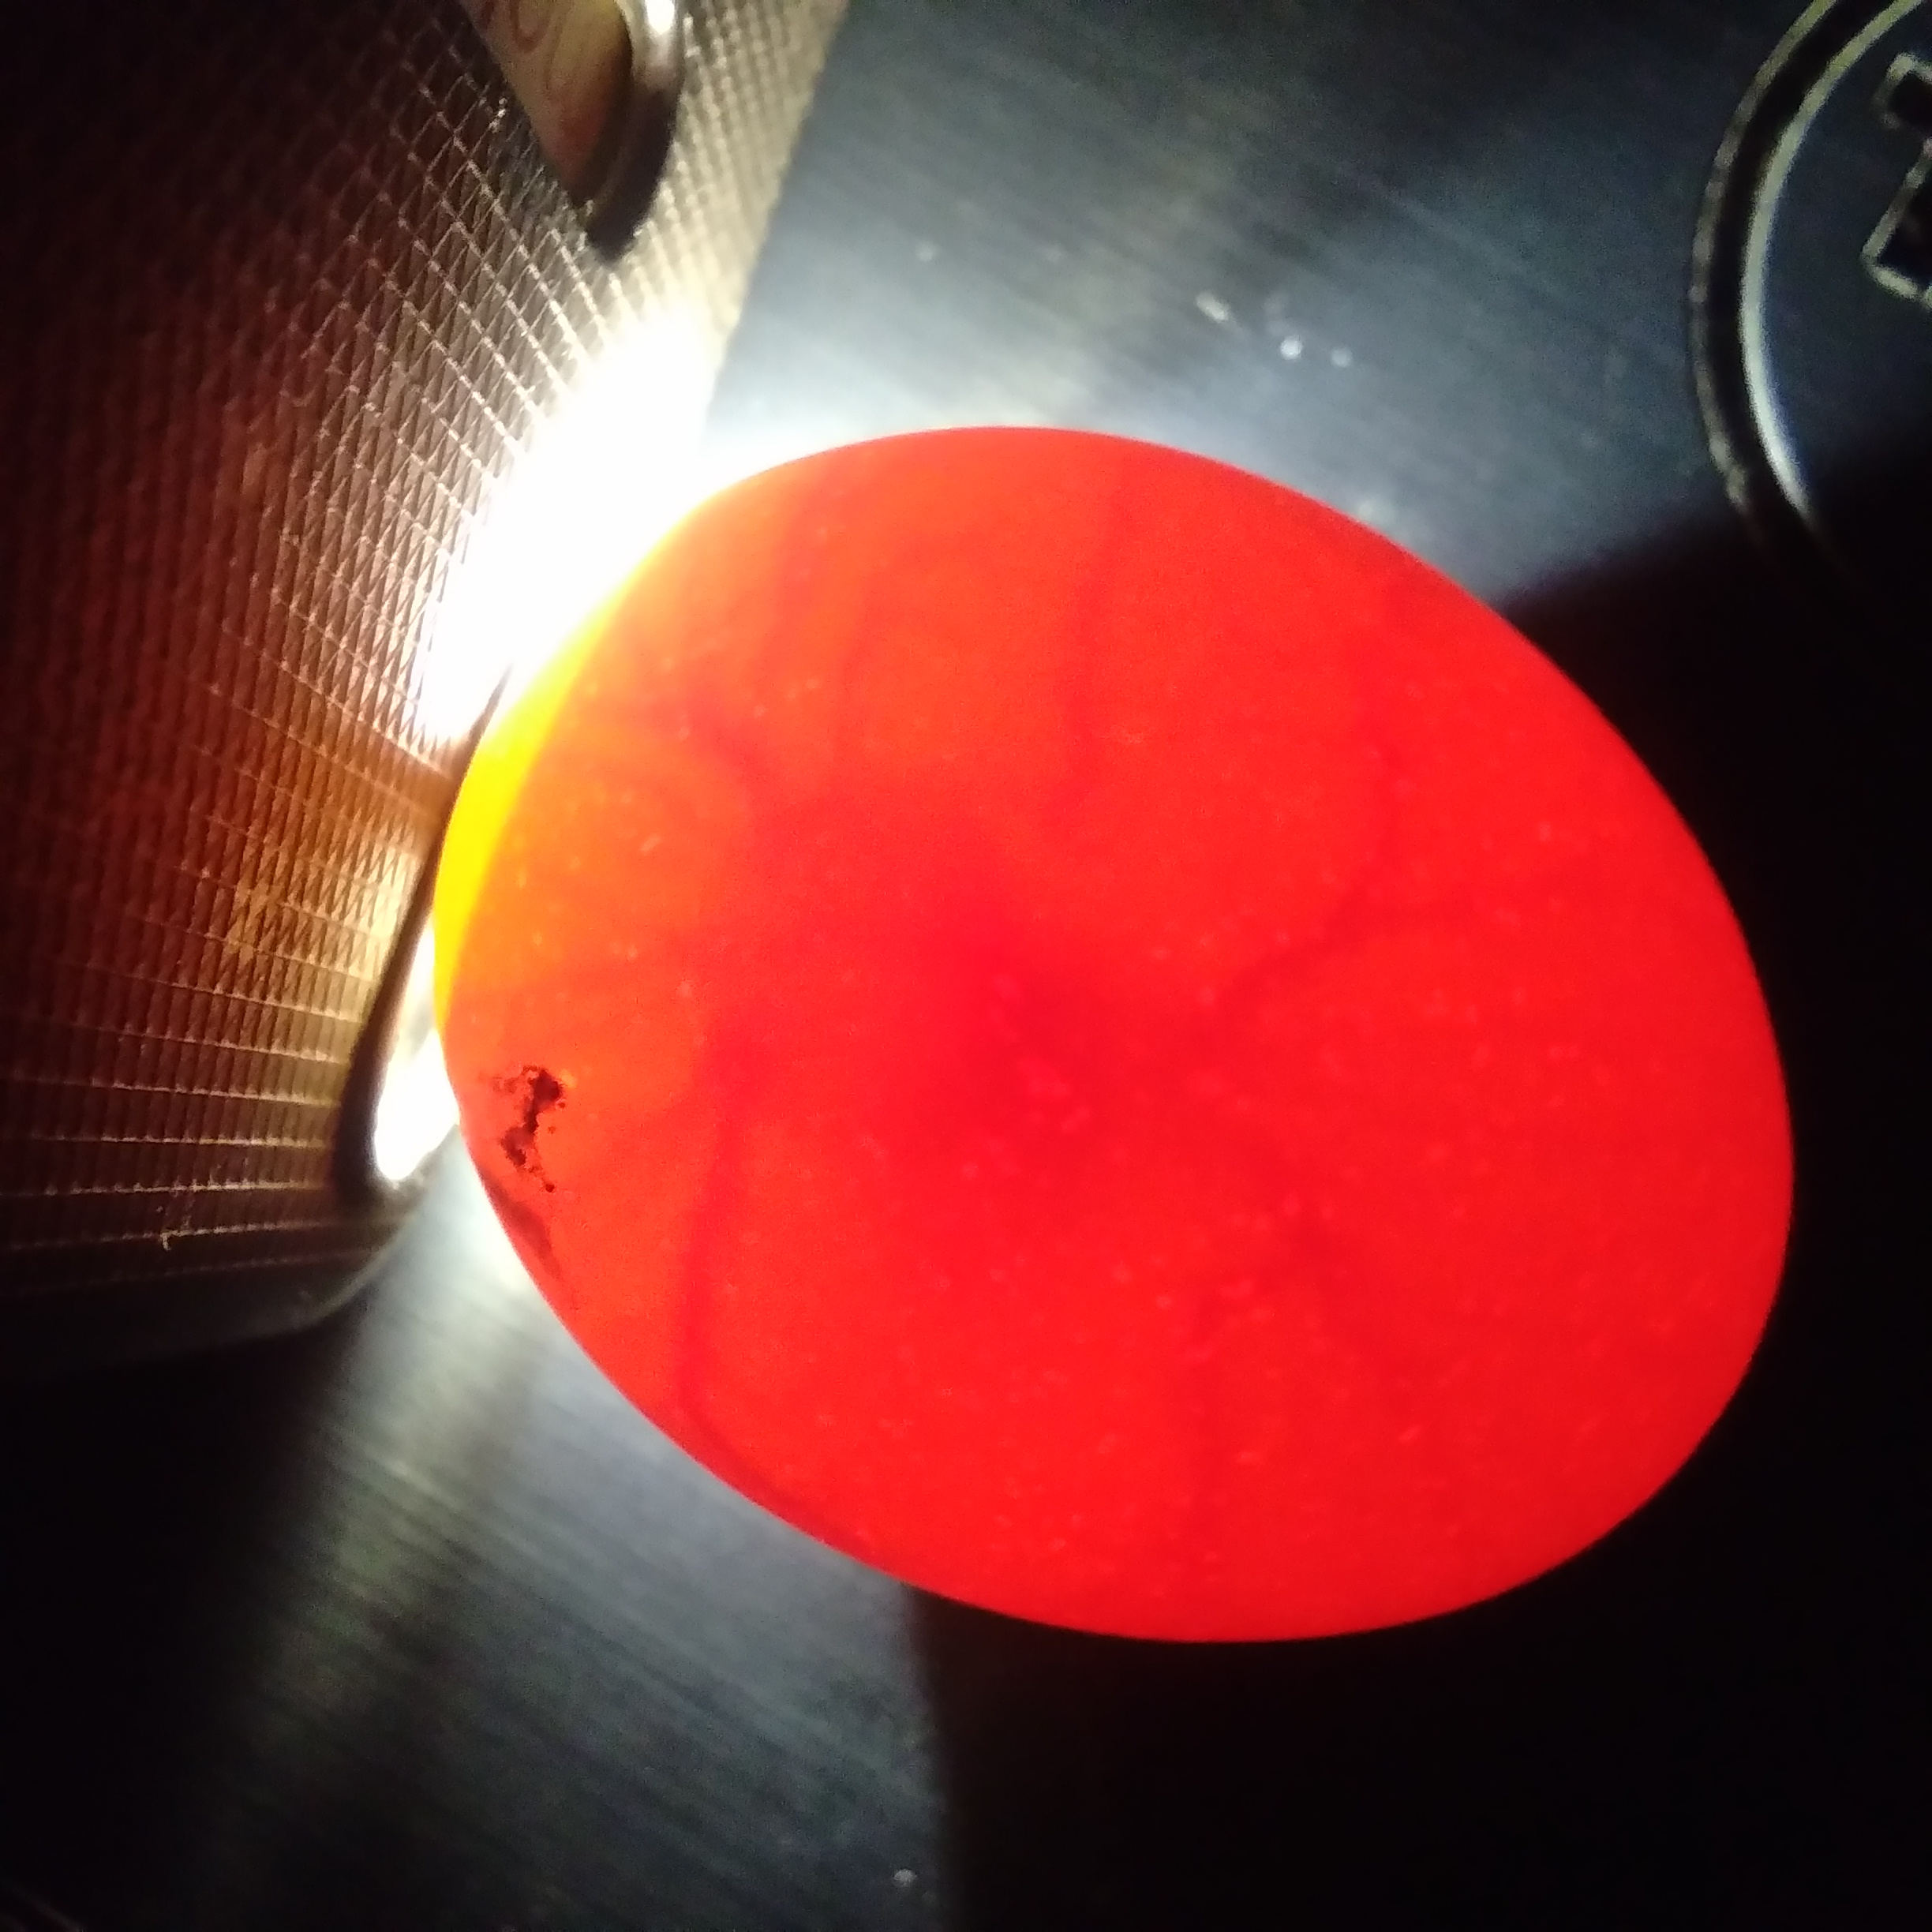bloodcell: (550, 757, 702, 1203), (616, 557, 952, 722)
embryo: (729, 833, 878, 1024)
